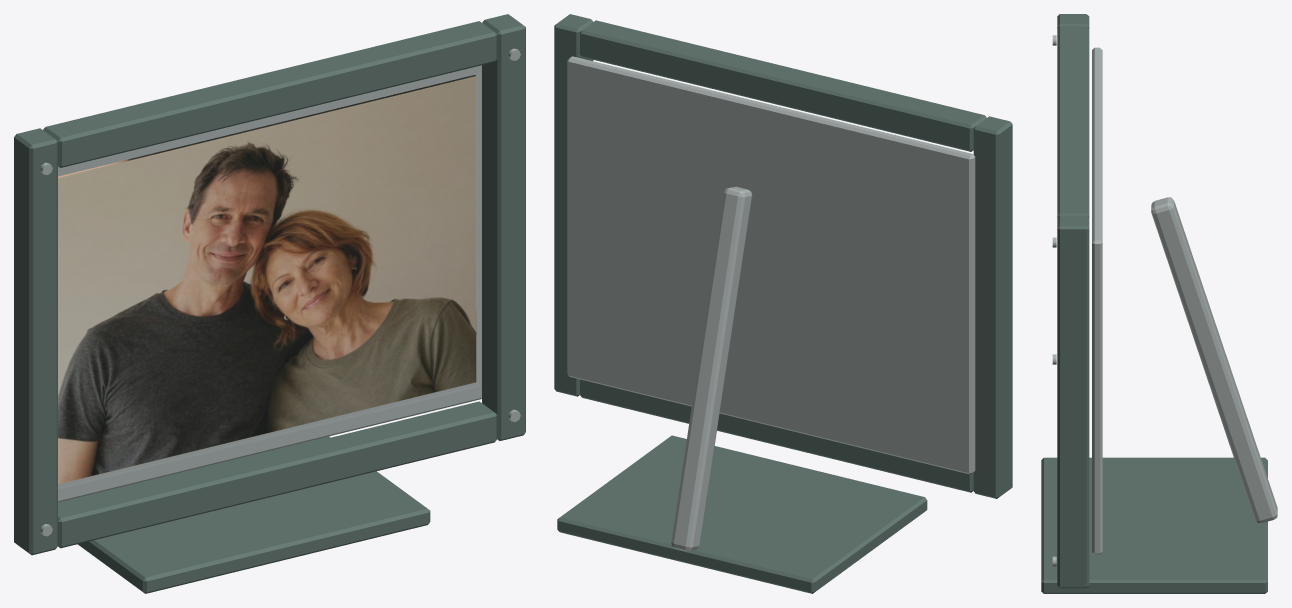
File: photo_frame.glb
The picture shows the model from 3 angles, left to right: view 1: azimuth 30°, elevation 25°; view 2: azimuth 150°, elevation 25°; view 3: azimuth 270°, elevation 25°; orthographic projection. The views are drawn at different scales.
Visible parts, largest first — view 1: PhotoPlate, BaseFoot, FrameTop, FrameBottom, FrameLeft, FrameRight, BackPlate; view 2: BackPlate, BaseFoot, FrameTop, FrameLeft, EaselLeg, FrameBottom, FrameRight; view 3: BaseFoot, FrameRight, EaselLeg, FrameTop, BackPlate, FrameLeft.
Part boxes in pixels (x1,y1,x2,y2): PhotoPlate: [58, 75, 476, 484]; BaseFoot: [58, 436, 430, 593]; FrameTop: [43, 21, 497, 167]; FrameBottom: [58, 401, 497, 548]; FrameLeft: [14, 128, 57, 555]; FrameRight: [482, 14, 525, 440]; BackPlate: [58, 65, 481, 502]; BackPlate: [567, 56, 975, 474]; BaseFoot: [557, 435, 927, 593]; FrameTop: [580, 20, 986, 151]; FrameLeft: [973, 116, 1012, 498]; EaselLeg: [671, 186, 752, 551]; FrameBottom: [580, 379, 973, 492]; FrameRight: [554, 14, 593, 396]; BaseFoot: [1041, 457, 1267, 593]; FrameRight: [1057, 215, 1089, 588]; EaselLeg: [1151, 197, 1277, 522]; FrameTop: [1057, 26, 1089, 217]; BackPlate: [1092, 47, 1102, 554]; FrameLeft: [1057, 14, 1089, 28].
Size of the model in its own units: 0.19 by 0.171 by 0.0887.
Materials: 4 (1 with a texture image).
